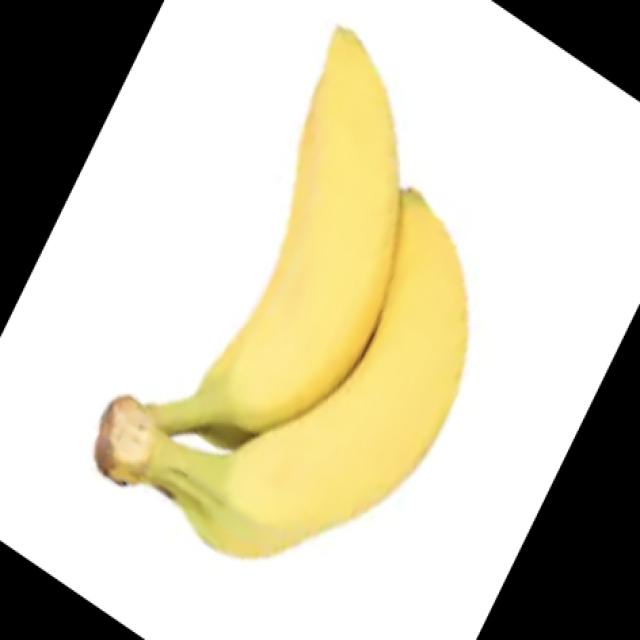god quality banana: (95, 27, 469, 557)
